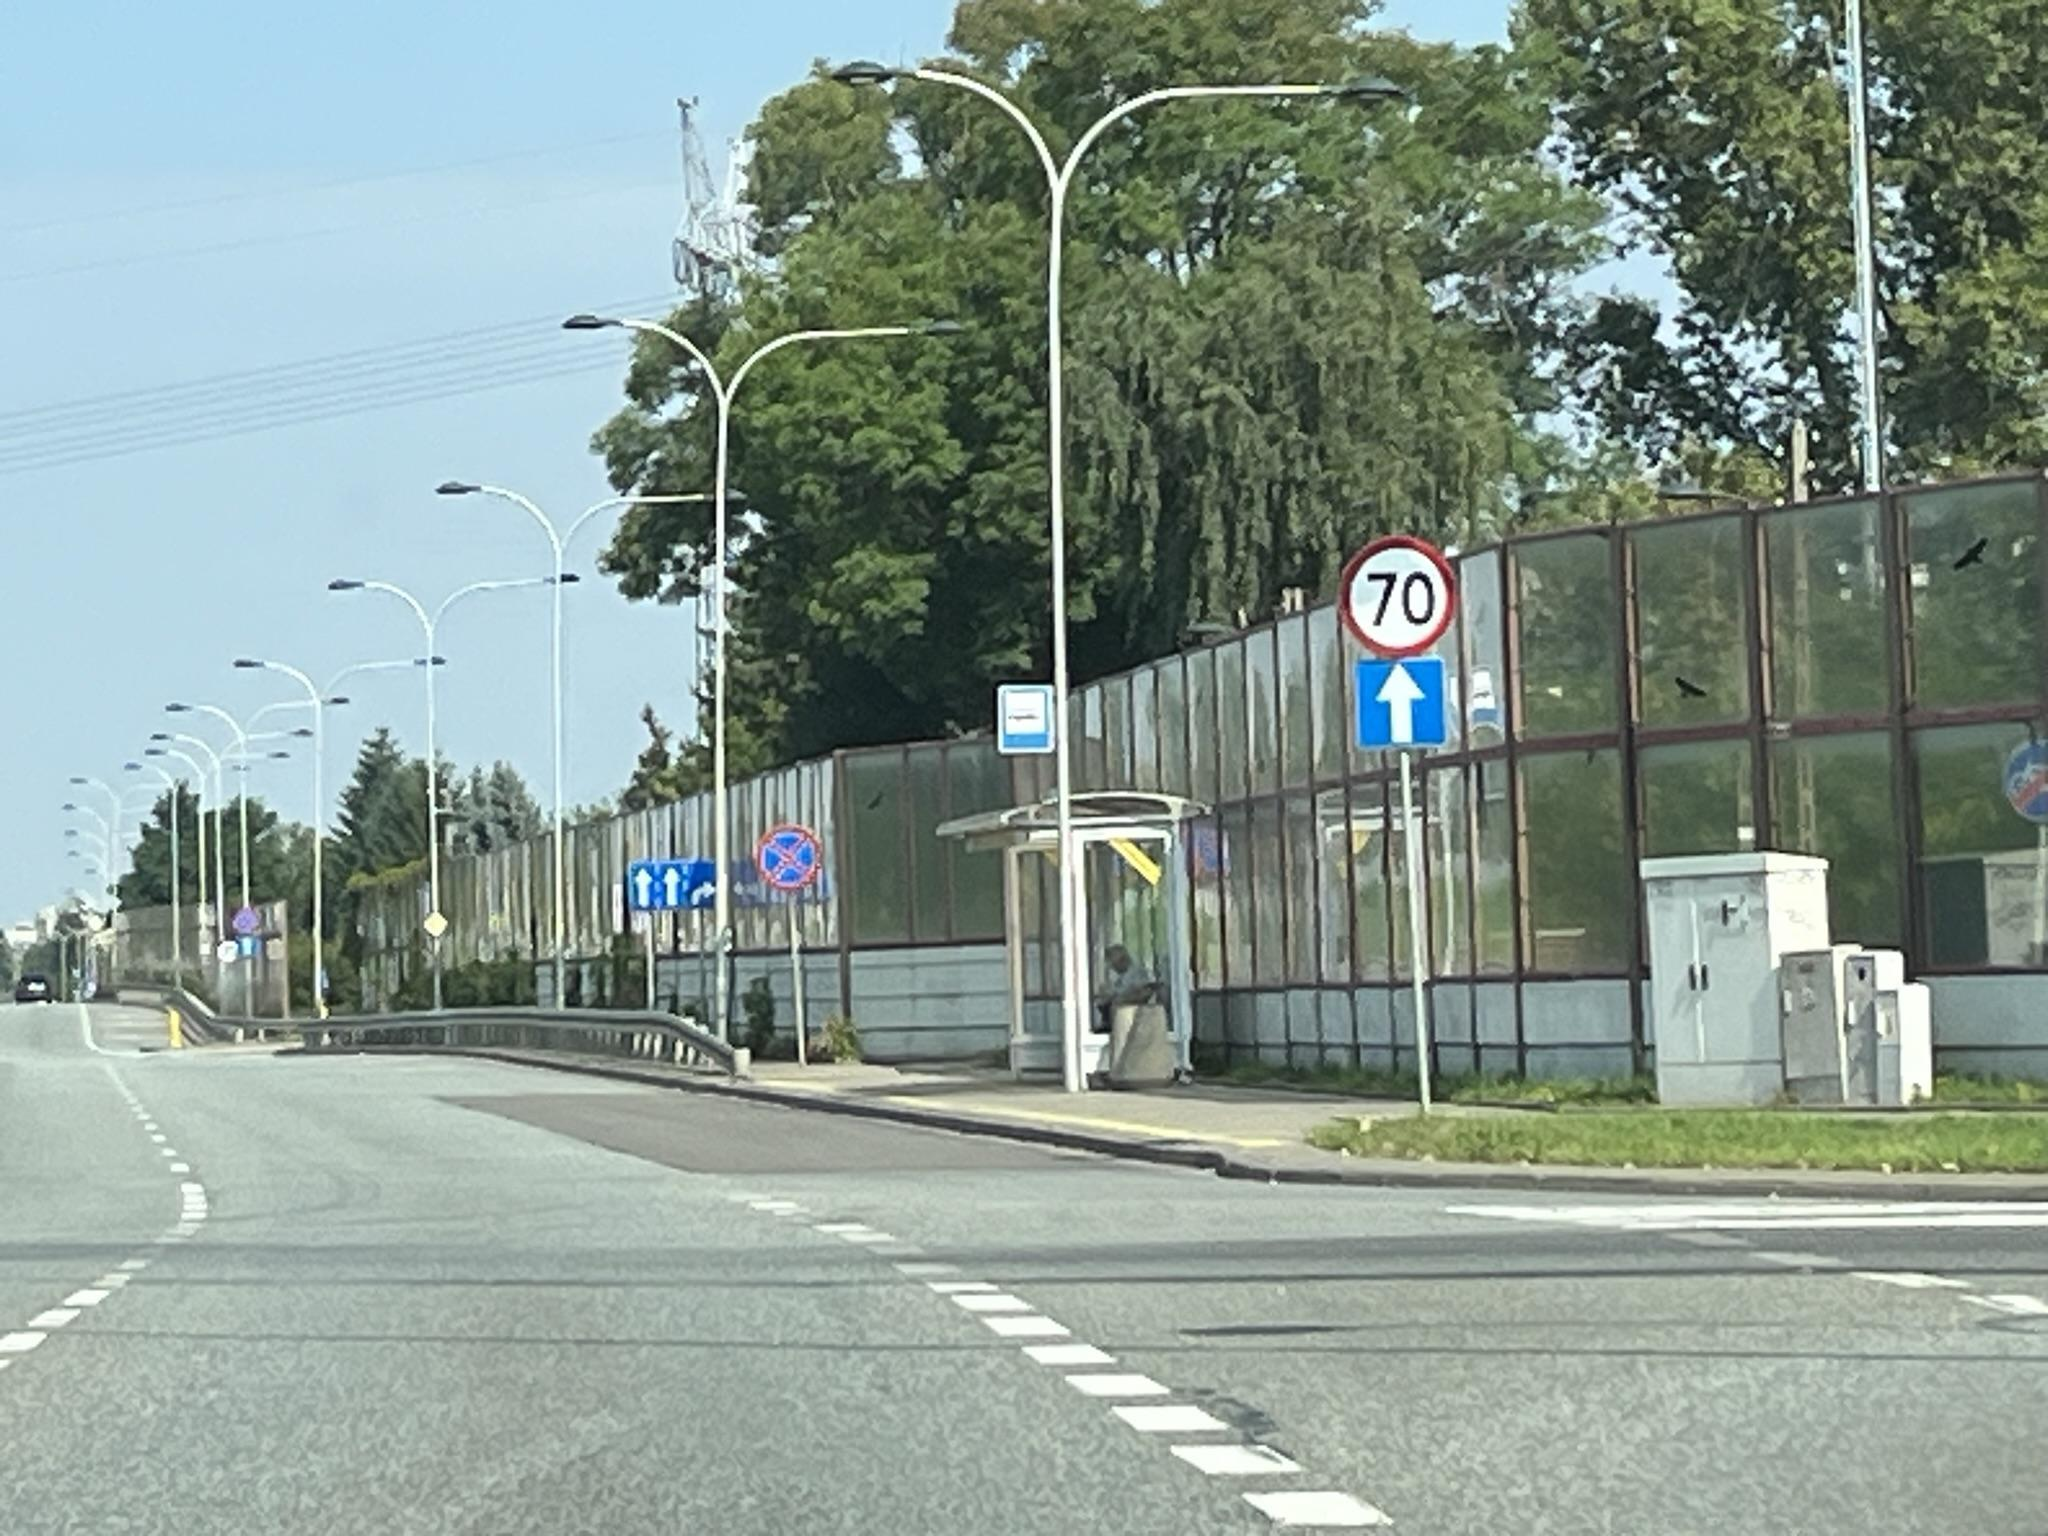information: (1356, 660, 1443, 745)
prohibitory: (1335, 532, 1463, 658), (756, 821, 824, 892)
